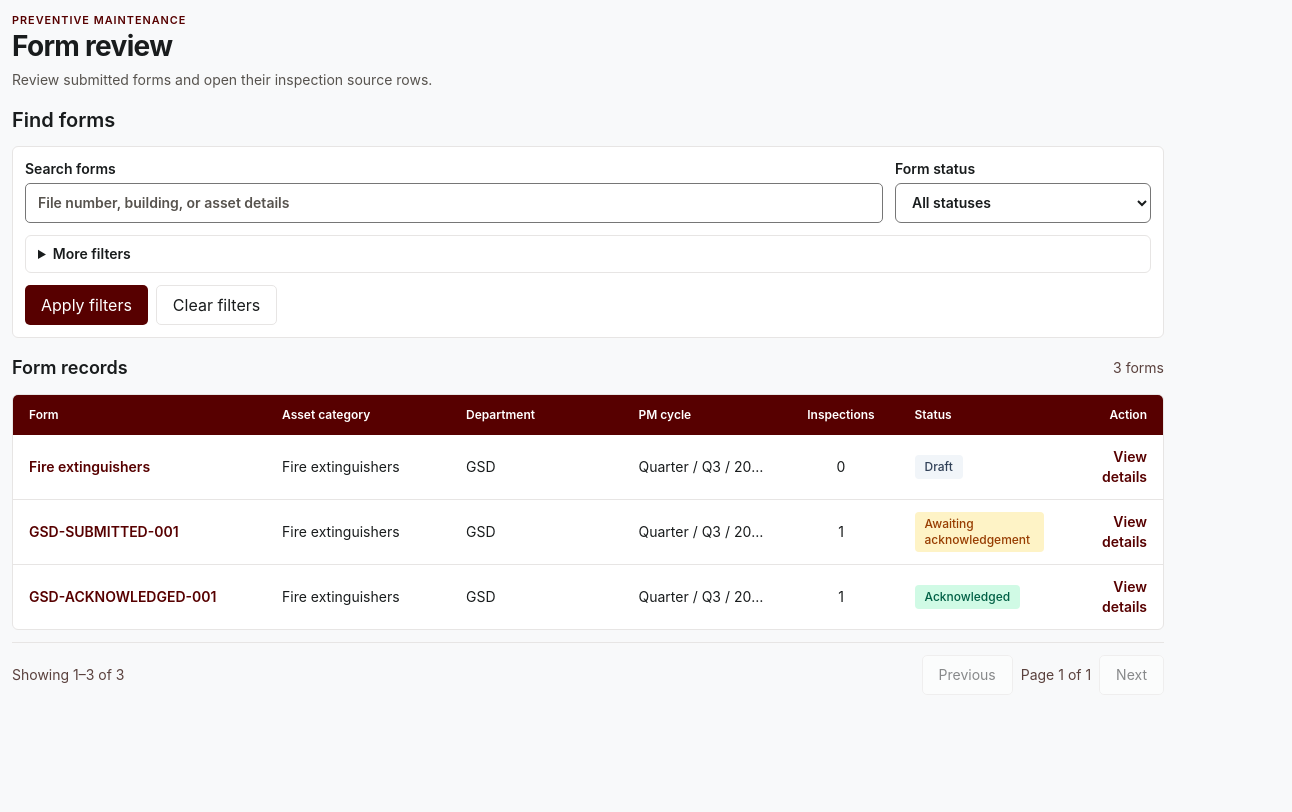
Test: preventive-maintenance form review › renders lifecycle labels and registry metadata
This screenshot has width=1292, height=812.
Expected: the heading "Form review" is shown, [12,29,172,63]
Expected: the field labelled "Search forms" is shown, [25,183,883,223]
Step 1. Click the heading "More filters" → (92, 253), box [53,245,131,262]
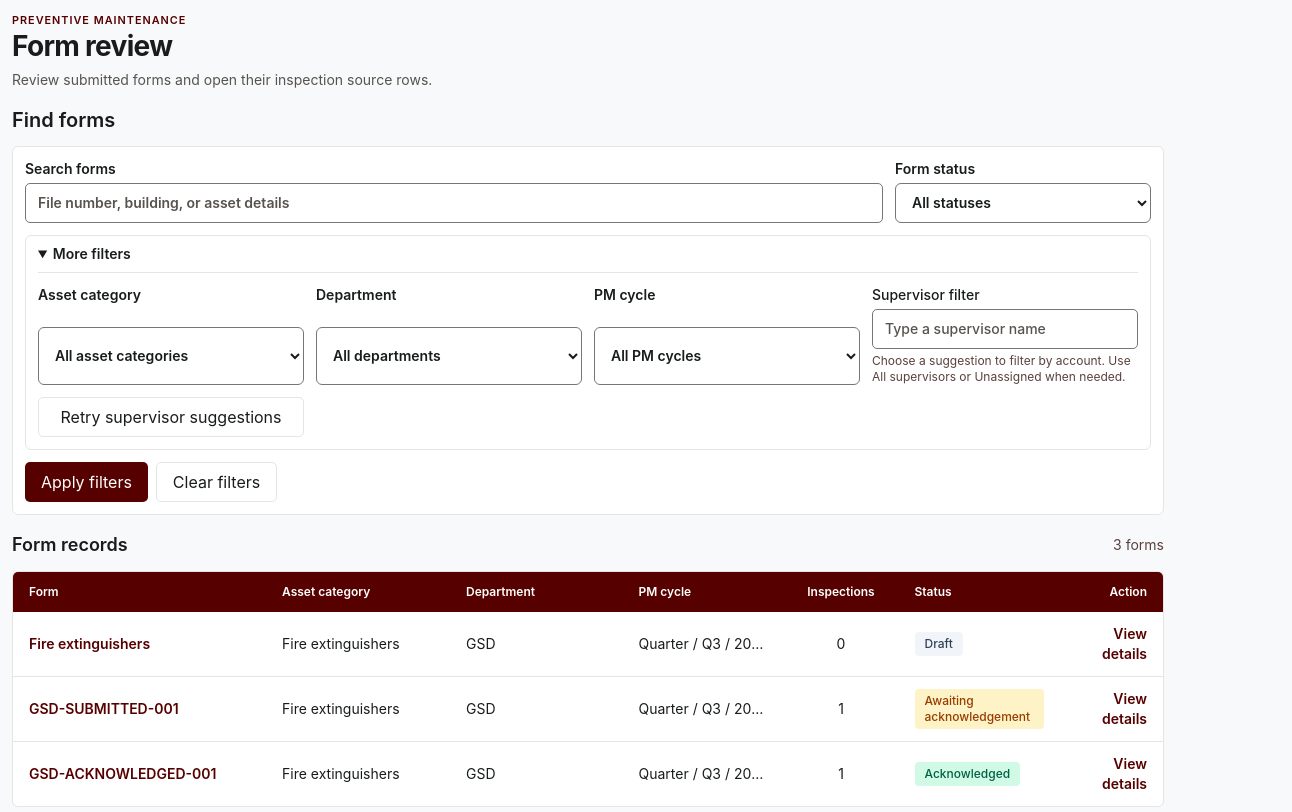
Result: the dropdown labelled "Asset category" is shown at [38,327,304,385]
Result: the dropdown labelled "Department" is shown at [316,327,582,385]
Result: the dropdown labelled "PM cycle" is shown at [594,327,860,385]
